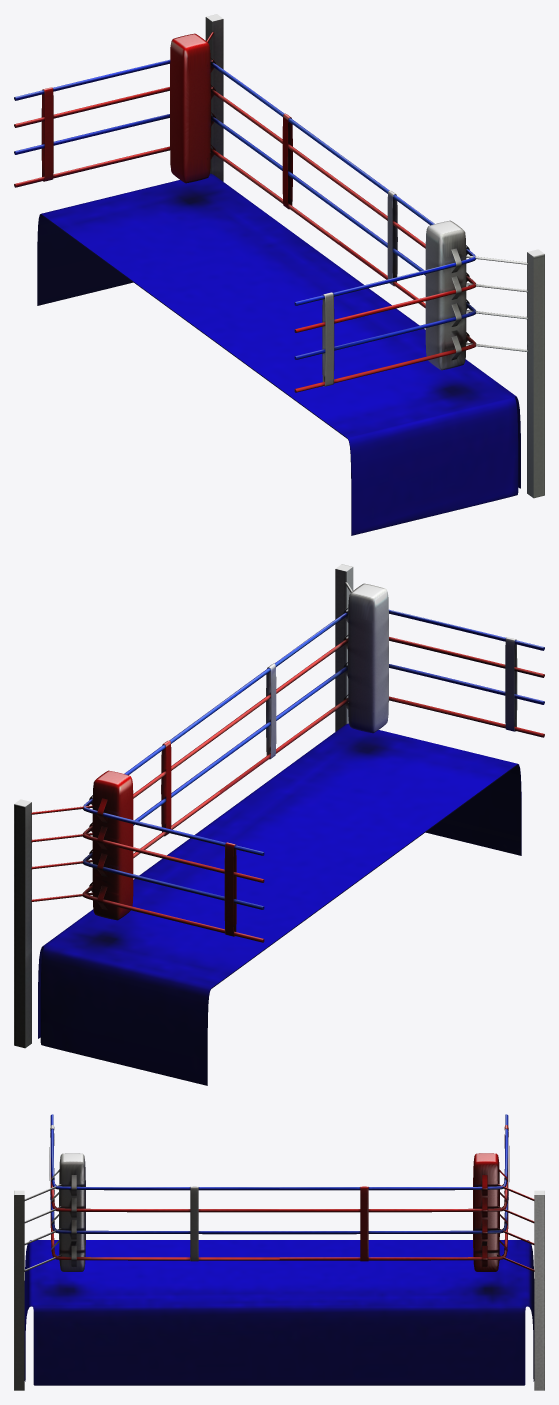
The model's file is boxing_ring_side.glb.
3 renders of one model, top to bottom at view 1: azimuth 30°, elevation 25°; view 2: azimuth 150°, elevation 25°; view 3: azimuth 270°, elevation 25°, orthographic. The views are drawn at different scales.
Visible parts, largest first — view 1: BoxingRing; view 2: BoxingRing; view 3: BoxingRing.
Part boxes in pixels (left/top/right/bottom): BoxingRing: left=14, top=14, right=544, bottom=535; BoxingRing: left=14, top=564, right=544, bottom=1085; BoxingRing: left=14, top=1114, right=544, bottom=1390.
Size of the model in its own units: 249 by 271 by 625.
1 material, 1 textured.
